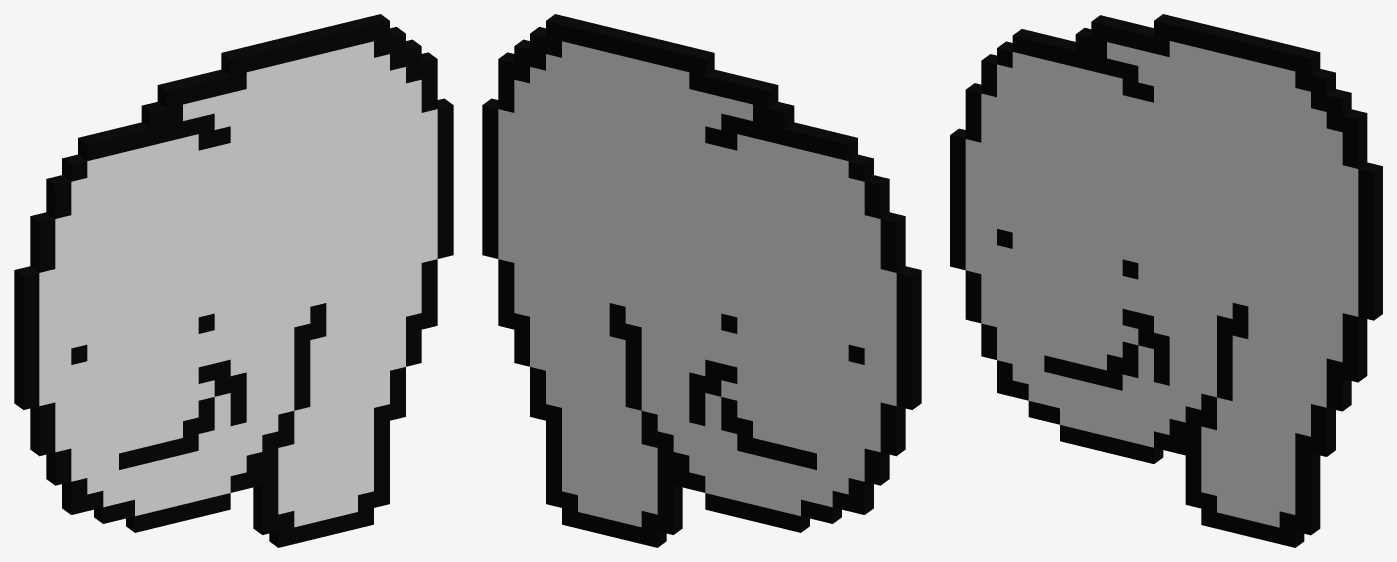
The model's file is test_enemy.obj.
The picture shows the model from 3 angles, left to right: view 1: azimuth 30°, elevation 25°; view 2: azimuth 150°, elevation 25°; view 3: azimuth 330°, elevation 25°; orthographic projection.
Size of the model in its own units: 2.7 by 3 by 0.1.
1 material, 1 textured.
